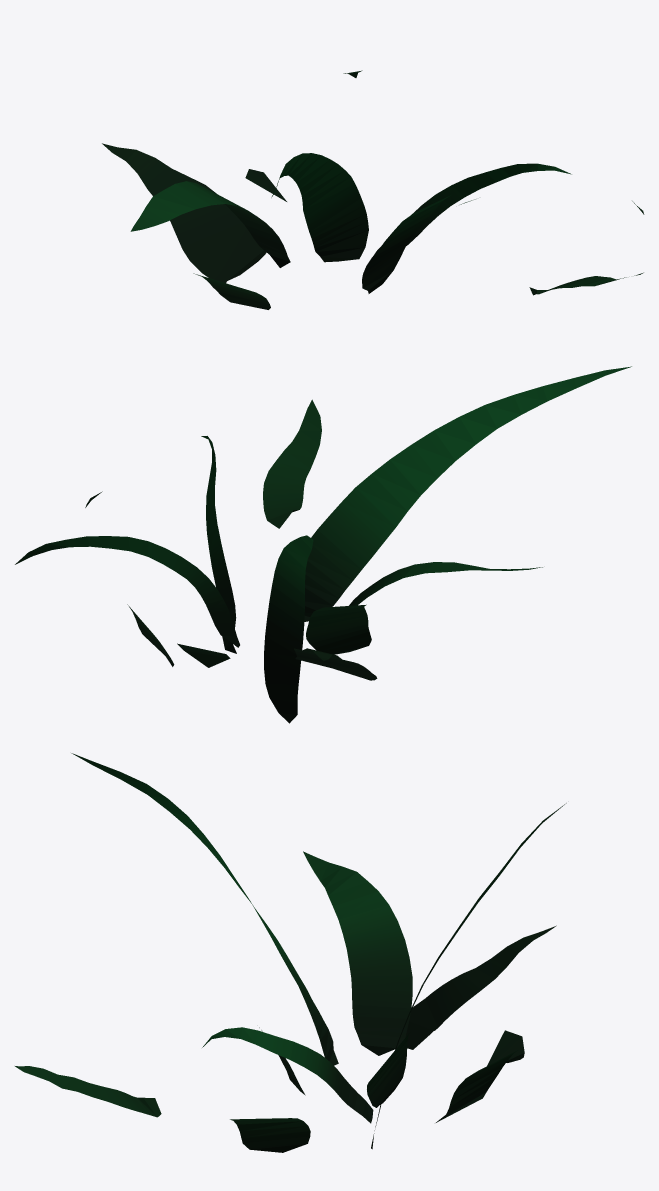
File: Grass03.fbx
3 views of the same model, one above another, from view 1: azimuth 30°, elevation 25°; view 2: azimuth 150°, elevation 25°; view 3: azimuth 270°, elevation 25° (orthographic). The views are drawn at different scales.
Visible parts, largest first — view 1: Grass003; view 2: Grass003; view 3: Grass003.
Boxes of the visible parts, x1,y1,x2,y2 form: Grass003: [102, 70, 644, 309]; Grass003: [15, 366, 631, 723]; Grass003: [15, 753, 566, 1152].
Bounding box in the file's own units: 0.9367 × 0.5091 × 0.9688.
